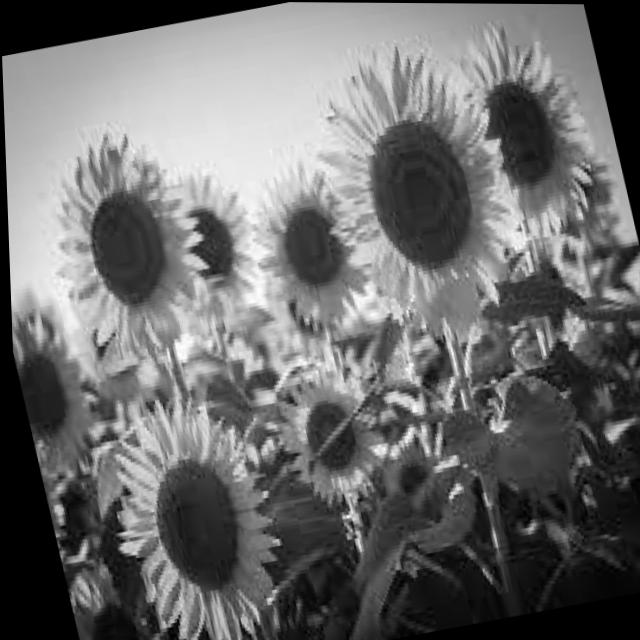Flower: (278, 36, 536, 371), (80, 391, 293, 640), (31, 120, 223, 378), (417, 12, 616, 256), (230, 145, 384, 340), (144, 147, 273, 334), (267, 366, 395, 517)
